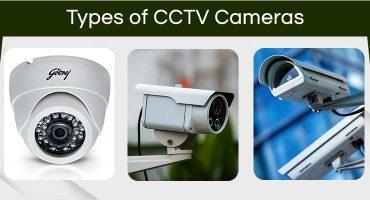CCTV: (9, 56, 110, 165), (134, 84, 235, 150), (279, 113, 365, 180), (259, 55, 358, 113)
